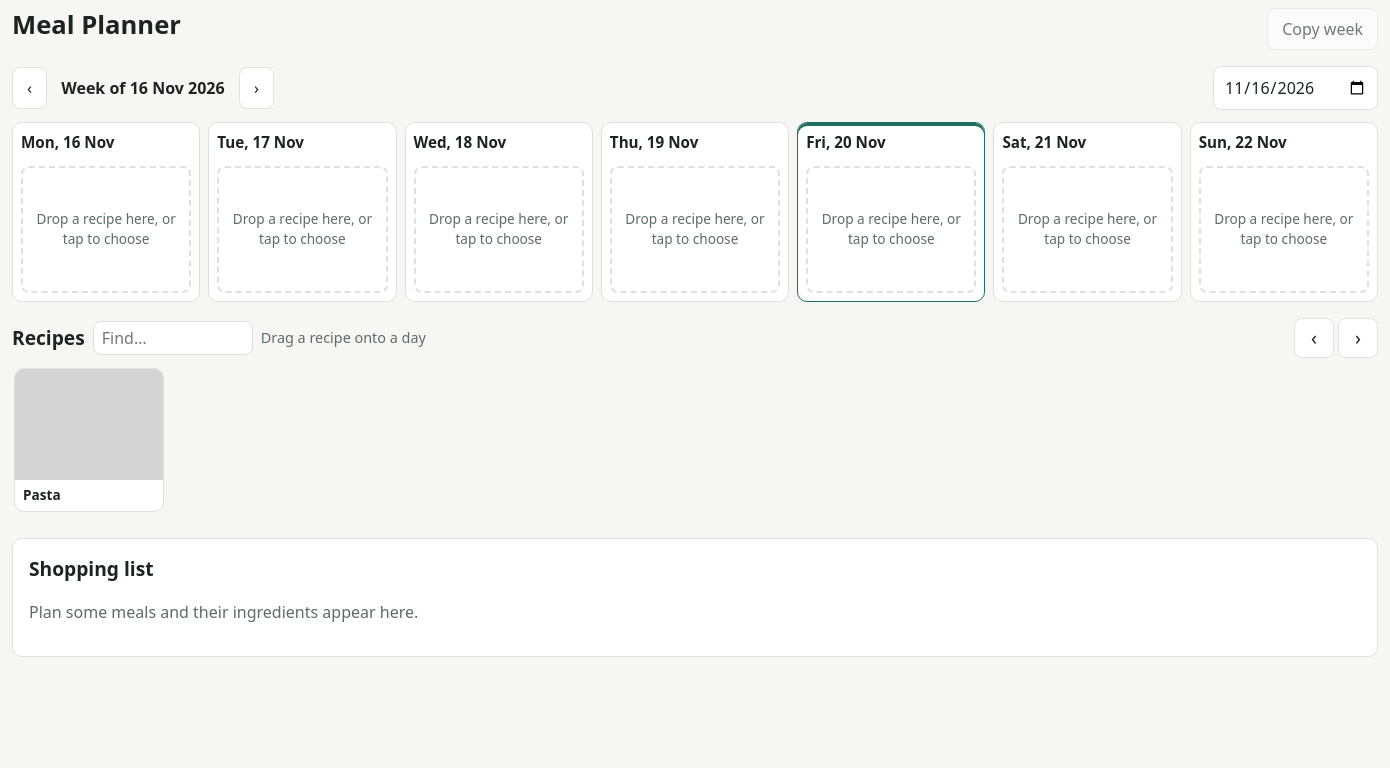
Test: PlannerPage › moves between weeks (M7)
Expected: the text "Week of 16 Nov 2026" is shown, top-left (55, 76), bottom-right (231, 100)
Click the button named "Next week".
click(256, 88)  # box top-left (239, 67), bottom-right (274, 109)
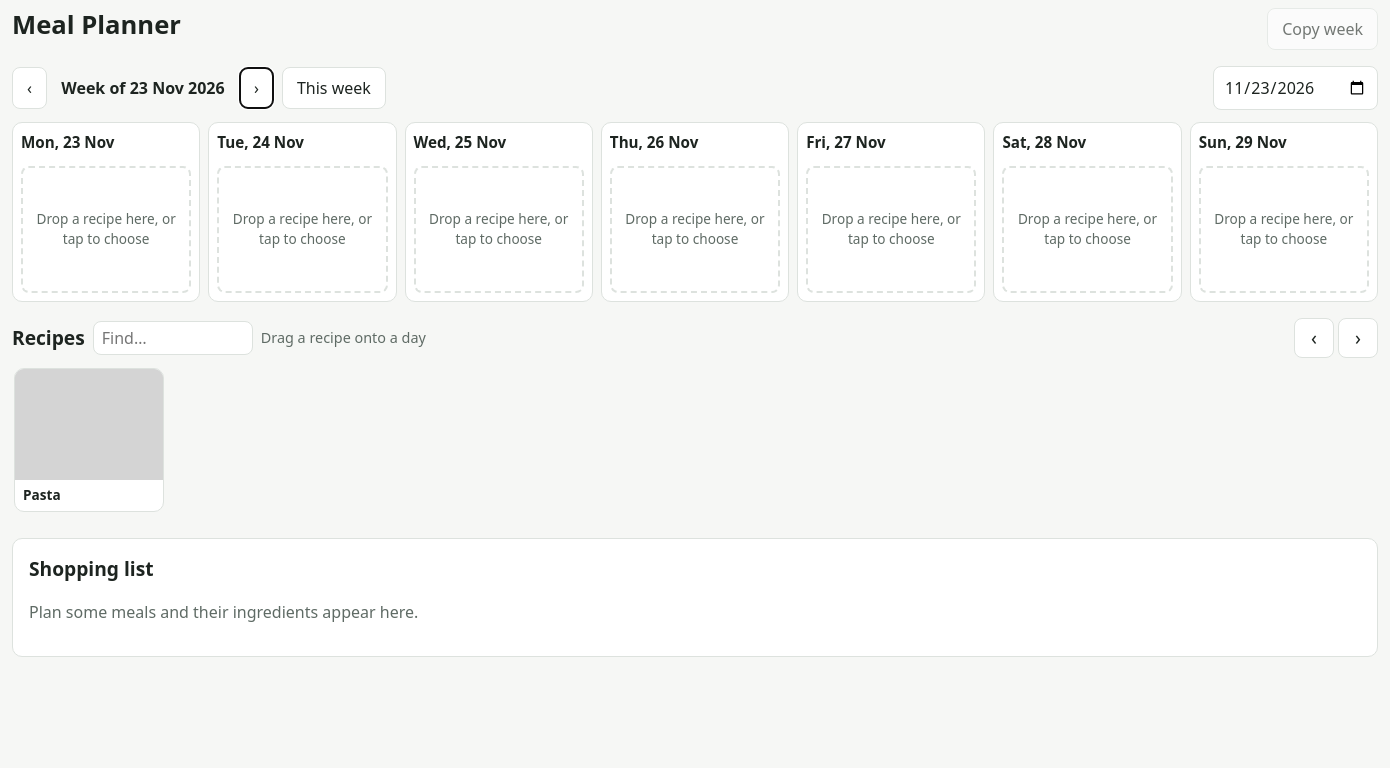
Now the text "Week of 23 Nov 2026" is shown, box top-left (55, 76), bottom-right (231, 100)
Click the button named "Previous week".
click(30, 88)  # box top-left (12, 67), bottom-right (47, 109)
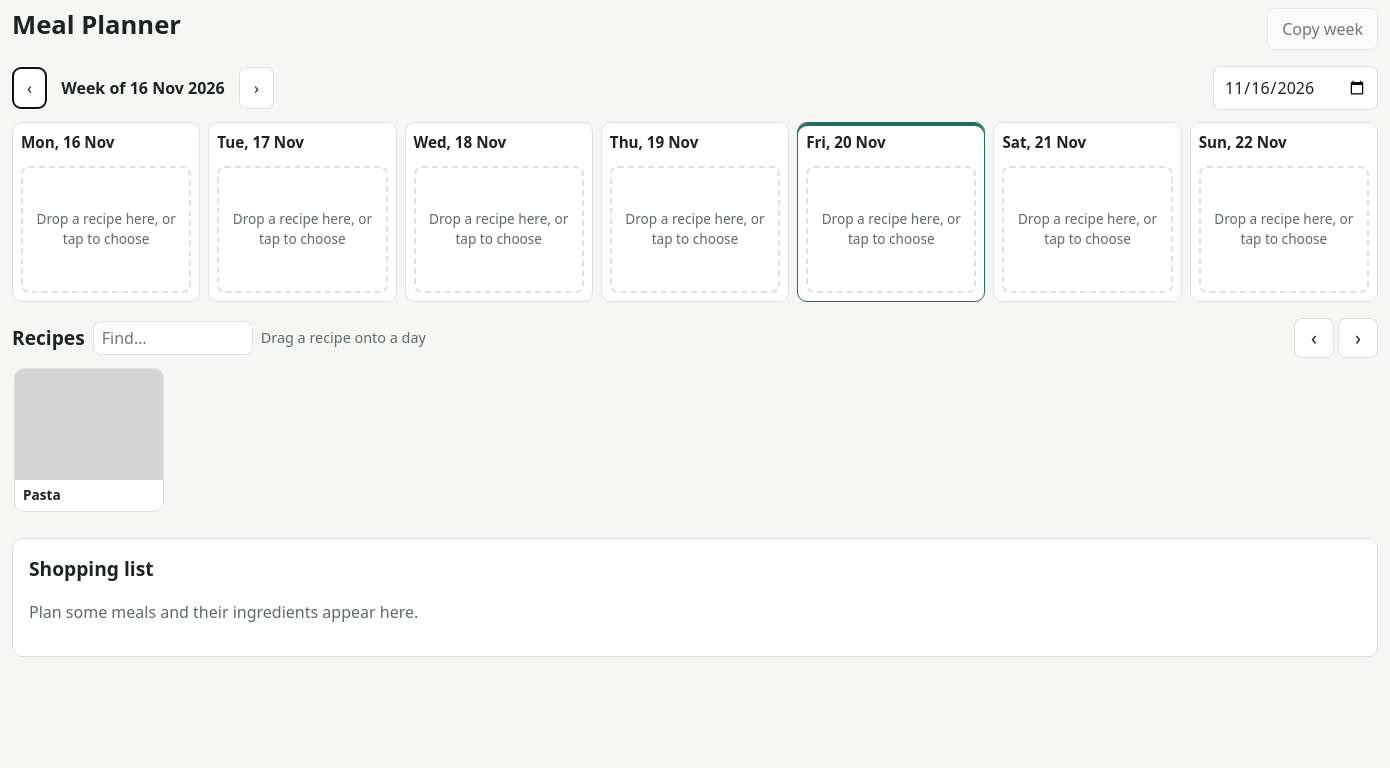
Click the button named "Previous week".
click(30, 88)  # box top-left (12, 67), bottom-right (47, 109)
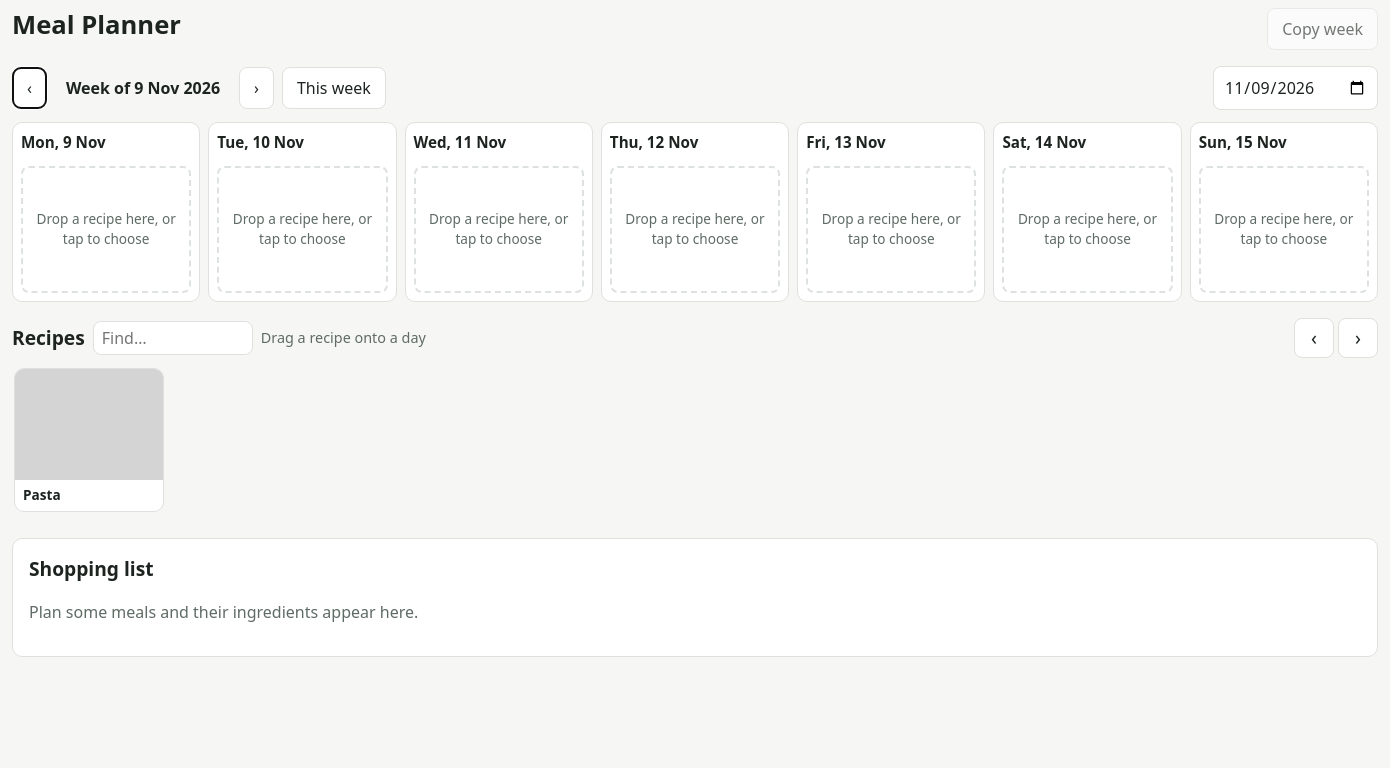
Now the text "Week of 9 Nov 2026" is shown, box top-left (55, 76), bottom-right (231, 100)
